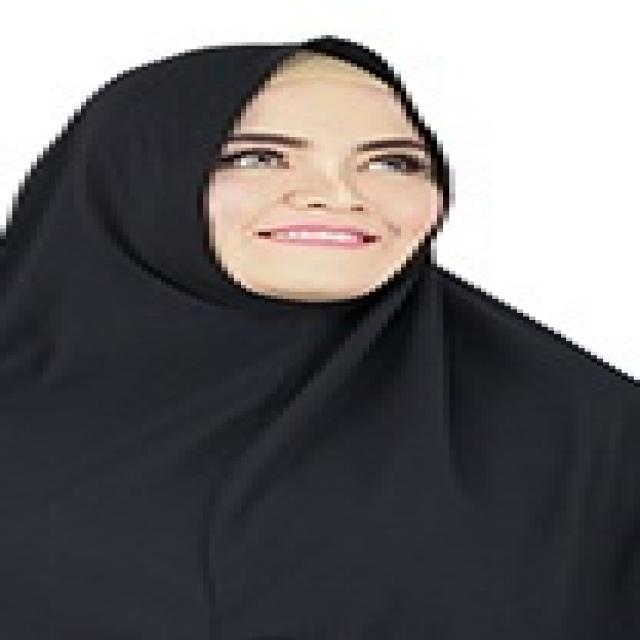head: (110, 45, 472, 314)
